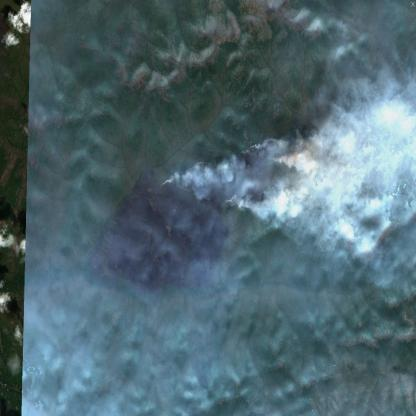fire: (180, 133, 289, 225)
